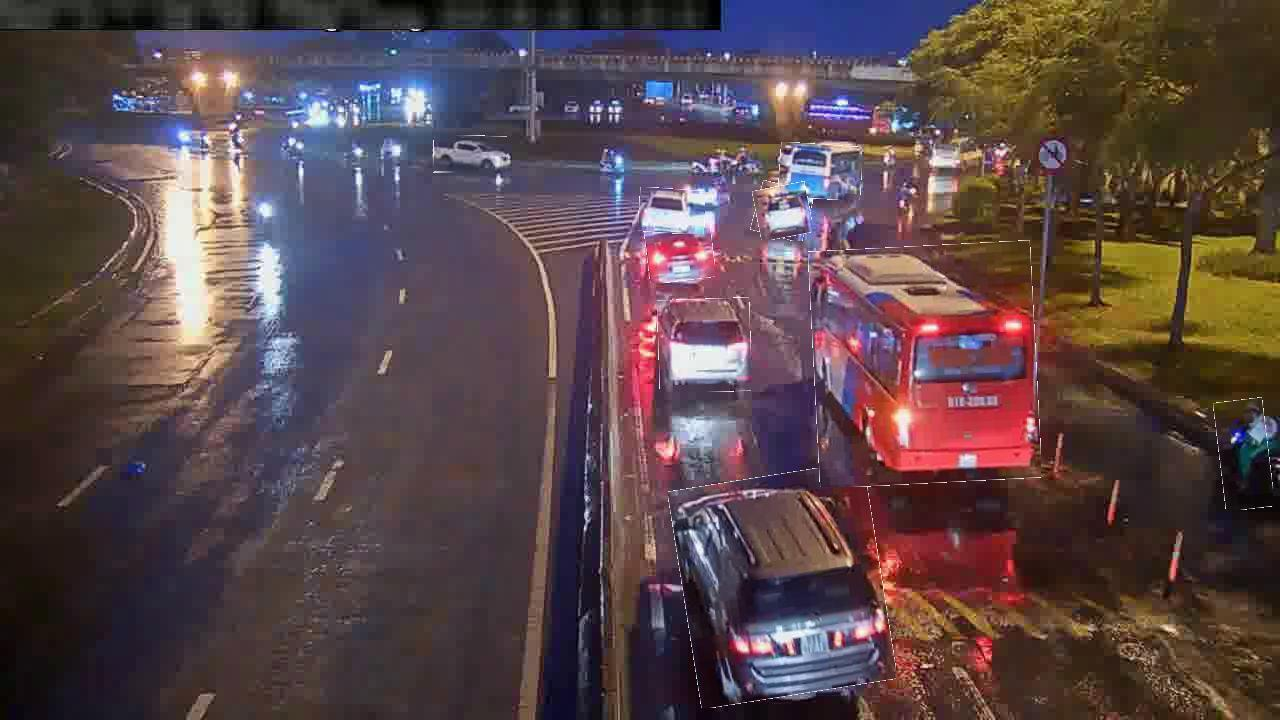14: (811, 243, 1039, 486), (779, 144, 863, 200), (754, 184, 811, 239), (638, 188, 706, 234)
container: (676, 468, 890, 702), (658, 298, 752, 393), (646, 223, 715, 283), (753, 183, 812, 240), (434, 136, 508, 174)
motorbike: (1216, 399, 1271, 510)
